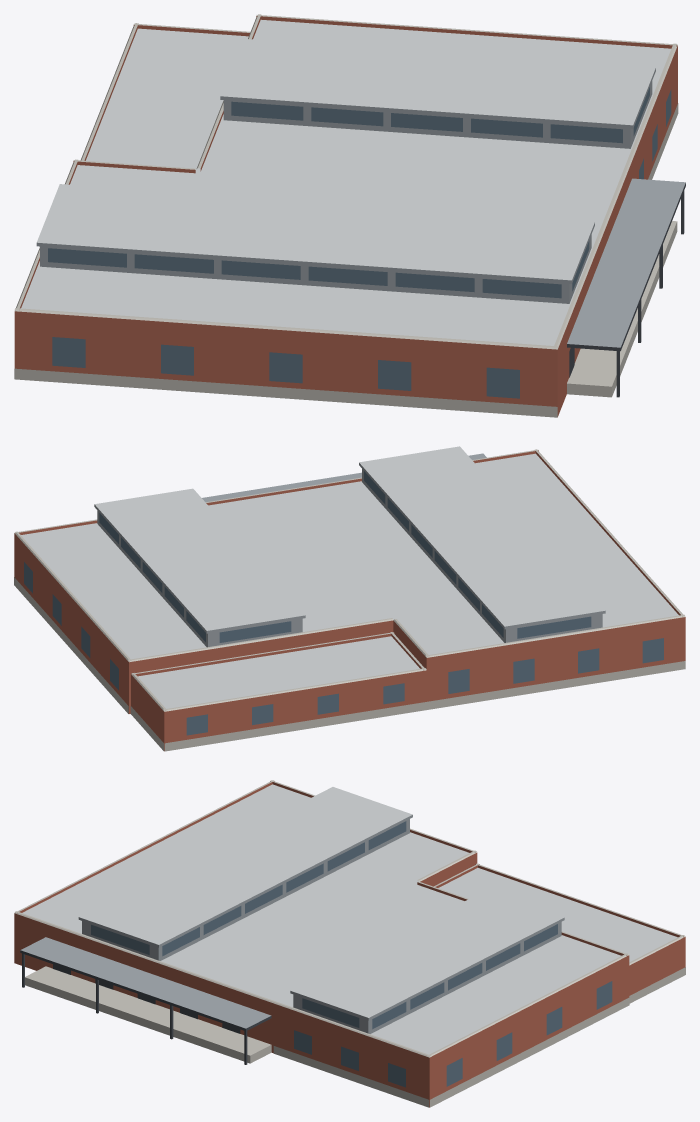
The model's file is detail.glb.
The picture shows the model from 3 angles, top to bottom: view 1: azimuth 30°, elevation 25°; view 2: azimuth 150°, elevation 25°; view 3: azimuth 270°, elevation 25°; orthographic projection. The views are drawn at different scales.
Visible parts, largest first — view 1: 1720-statesville-avenue; view 2: 1720-statesville-avenue; view 3: 1720-statesville-avenue.
Part boxes in pixels (box(x1,y1,x2,y2)): 1720-statesville-avenue: box(14, 14, 685, 417); 1720-statesville-avenue: box(14, 446, 685, 751); 1720-statesville-avenue: box(14, 780, 685, 1107).
Size of the model in its own units: 89.72 by 10.1 by 91.96.
